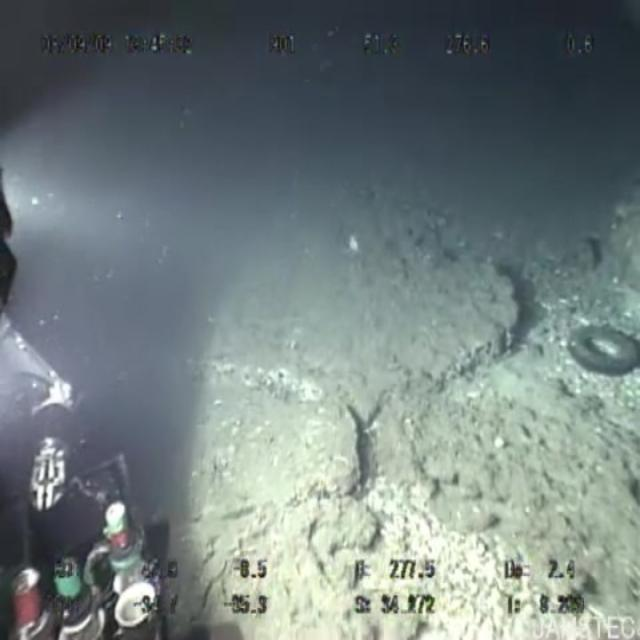Rubber: (546, 286, 640, 413)
